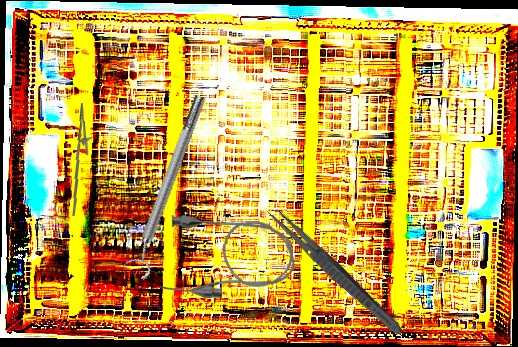Cannula: (159, 214, 297, 302)
Dressing Forceps: (262, 202, 408, 340)
Fixation Ring: (118, 91, 217, 282)
Needle Holder: (66, 102, 98, 217)
